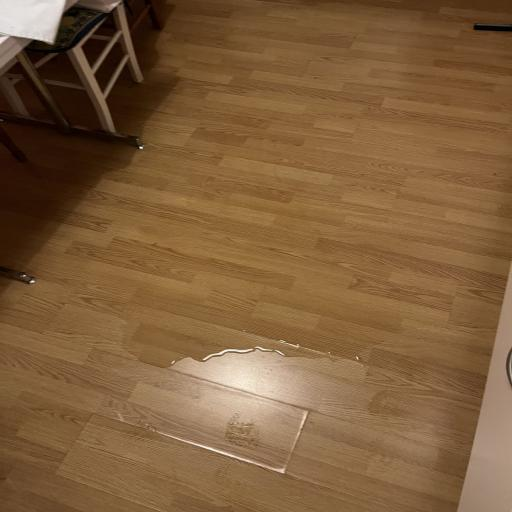bus: (0, 0, 159, 150)
wet_floor: (0, 0, 512, 478)
